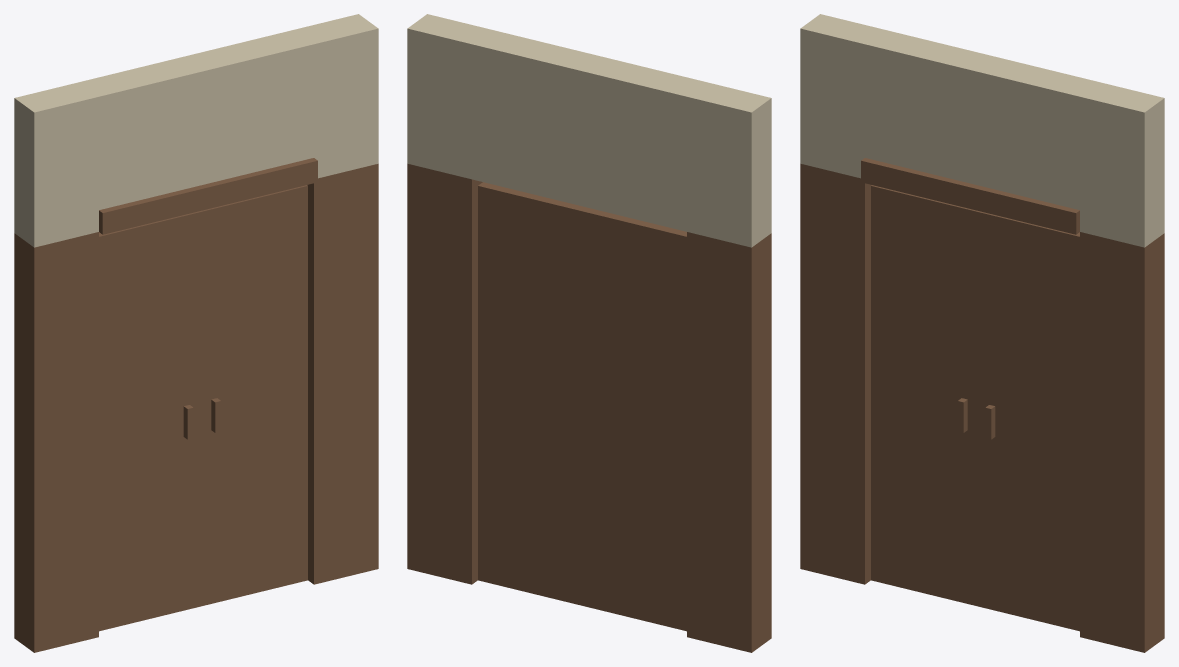
File: door_closed_2m.glb
The picture shows the model from 3 angles, left to right: view 1: azimuth 30°, elevation 25°; view 2: azimuth 150°, elevation 25°; view 3: azimuth 330°, elevation 25°; orthographic projection.
Visible parts, largest first — view 1: Lintel, ClosedLeafRight, ClosedLeafLeft, JambLeft, JambRight, HeaderTrim; view 2: Lintel, ClosedLeafRight, ClosedLeafLeft, JambLeft, JambRight; view 3: Lintel, ClosedLeafLeft, ClosedLeafRight, JambRight, JambLeft, HeaderTrim.
Part boxes in pixels (x1,y1,x2,y2): Lintel: (14,14,378,247); ClosedLeafRight: (199,185,307,606); ClosedLeafLeft: (99,211,200,631); JambLeft: (14,232,98,652); JambRight: (307,163,378,584); HeaderTrim: (99,158,317,234); Lintel: (407,14,771,247); ClosedLeafRight: (478,182,589,606); ClosedLeafLeft: (585,208,686,631); JambLeft: (687,232,771,652); JambRight: (407,163,482,584); Lintel: (800,14,1164,247); ClosedLeafLeft: (871,185,979,606); ClosedLeafRight: (978,211,1079,631); JambRight: (1080,232,1164,652); JambLeft: (800,163,871,584); HeaderTrim: (861,158,1079,234).
Size of the model in its own units: 2 by 3 by 0.24.
